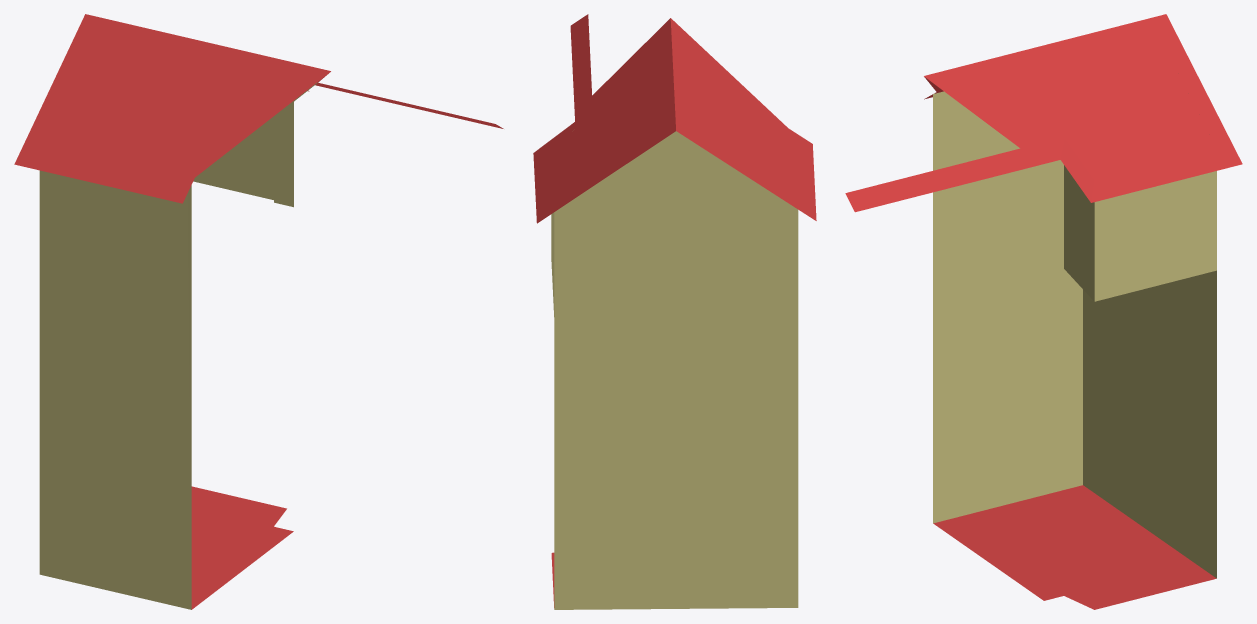
The picture shows the model from 3 angles, left to right: view 1: azimuth 30°, elevation 25°; view 2: azimuth 150°, elevation 25°; view 3: azimuth 270°, elevation 25°; orthographic projection. The views are drawn at different scales.
Size of the model in its own units: 11.6 by 10.57 by 15.08.
